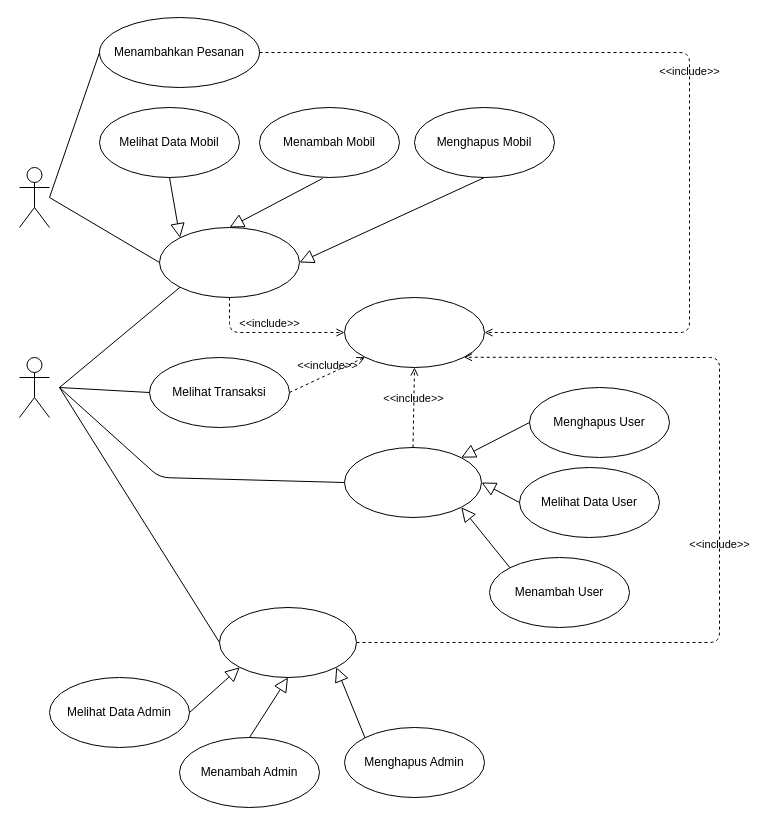
This 767x825 diagram has some shape labels left out. The centre of each missing label's shape, as x and y in pixels:
Admin: point (34, 387)
Login: point (414, 332)
Mengelola Admin: point (287, 642)
Mengelola Mobil: point (229, 262)
Mengelola User: point (413, 482)
User: point (34, 197)
